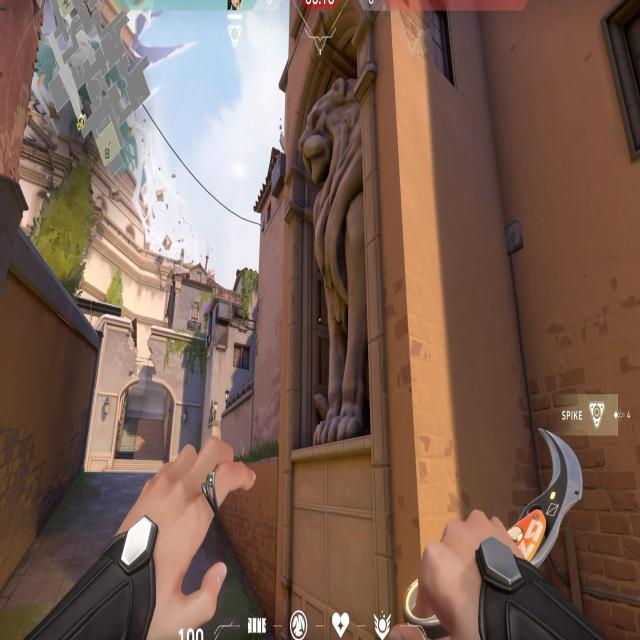Lion_Corner: (285, 5, 382, 455)
